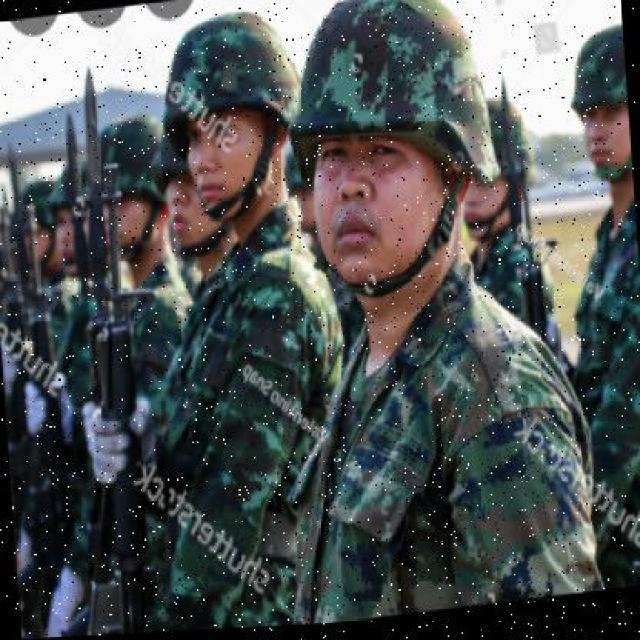MIL_Pax: (298, 0, 565, 628), (157, 9, 326, 633), (75, 89, 188, 637), (11, 131, 111, 640), (554, 19, 640, 598), (454, 100, 543, 328)
